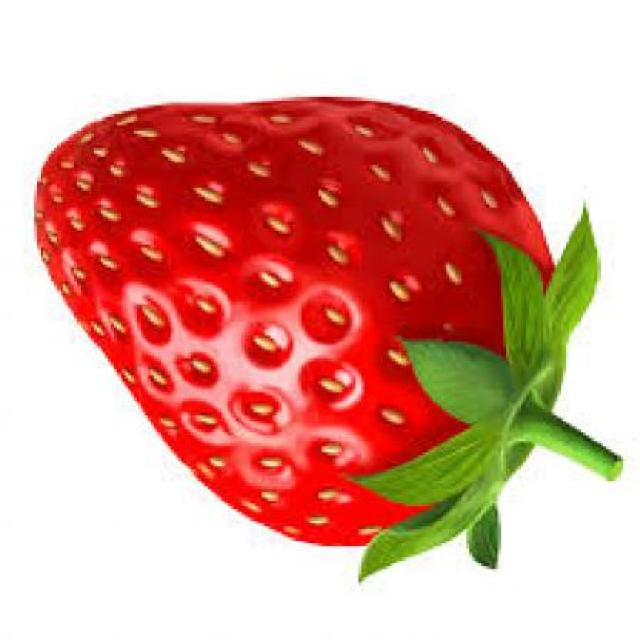BIODEGRADABLE: (32, 100, 619, 588)
